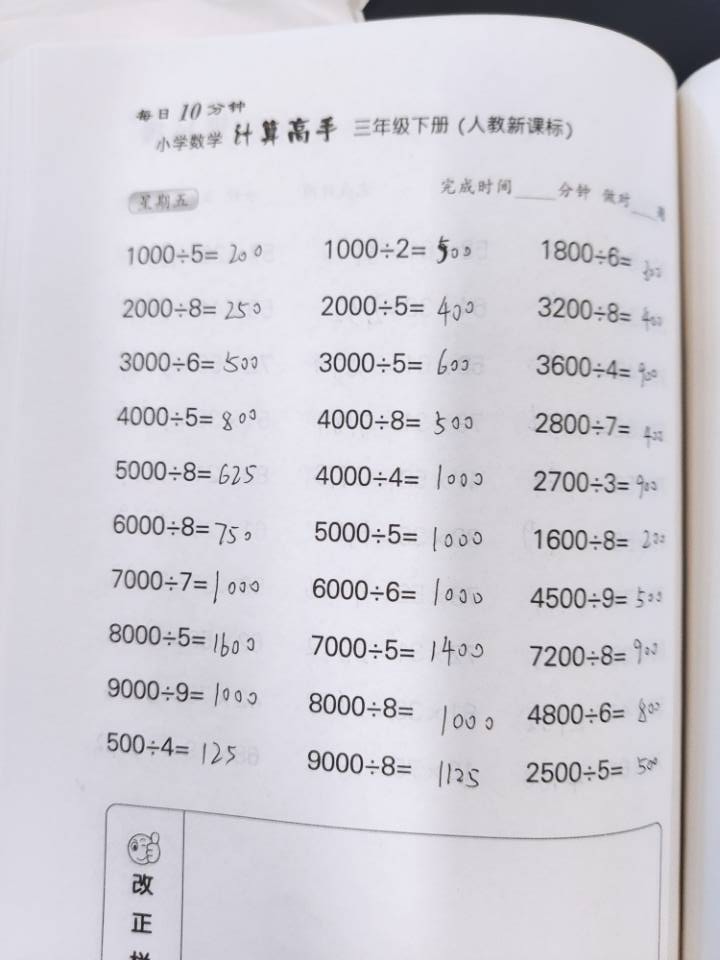equation: (517, 295, 556, 559), (559, 296, 598, 560), (175, 45, 217, 285), (169, 591, 207, 804), (387, 305, 417, 559), (302, 305, 332, 559), (432, 45, 462, 299), (428, 293, 458, 547), (217, 584, 247, 837), (256, 304, 286, 557), (256, 584, 286, 837), (171, 312, 201, 565), (219, 296, 249, 549), (262, 39, 292, 292), (219, 52, 249, 305), (390, 52, 420, 305), (348, 39, 378, 292), (308, 47, 338, 300), (344, 300, 374, 553), (383, 587, 413, 840), (338, 579, 368, 832), (297, 575, 327, 828), (478, 43, 508, 296), (519, 51, 549, 304), (564, 51, 594, 304), (471, 296, 501, 549), (503, 584, 533, 837), (465, 588, 495, 841), (422, 583, 452, 836), (547, 588, 577, 841)
